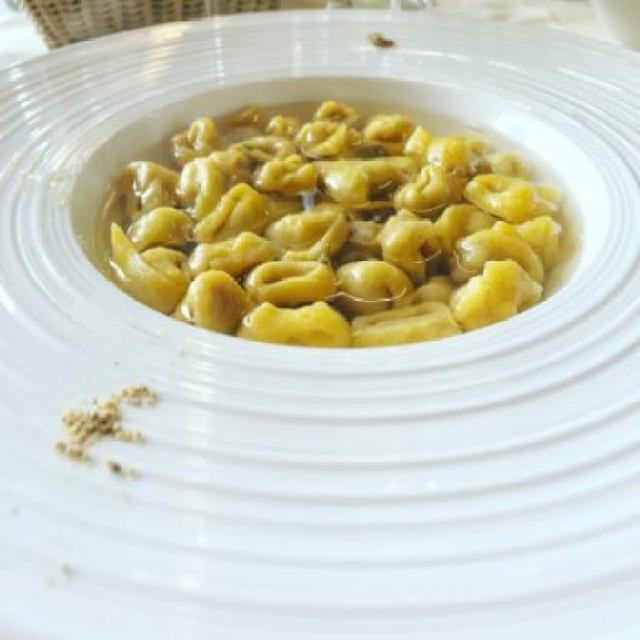Tortellini in broth: (87, 122, 639, 366)
